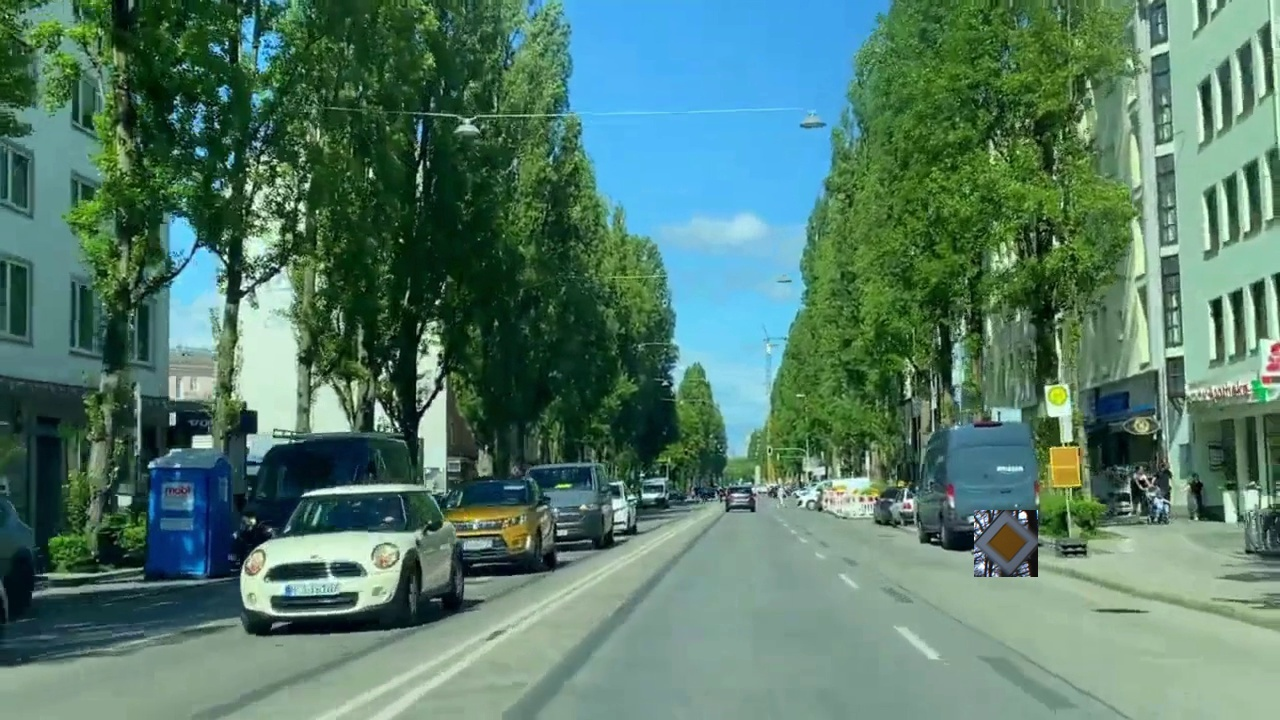Priority road: (974, 510, 1038, 577)
